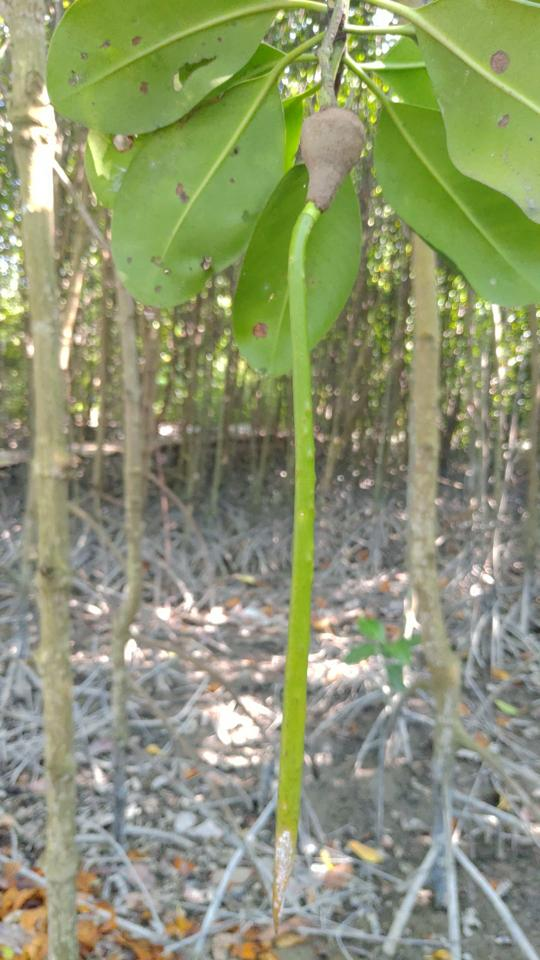setengah matang: (241, 89, 374, 938)
